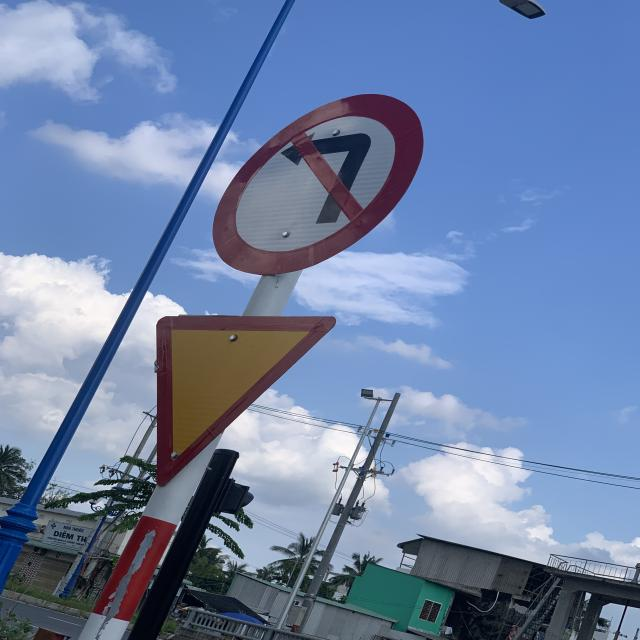Cam_Re_Trai: (208, 91, 431, 281)
Gioi_Han_Toc_Do_25: (157, 316, 343, 494)
